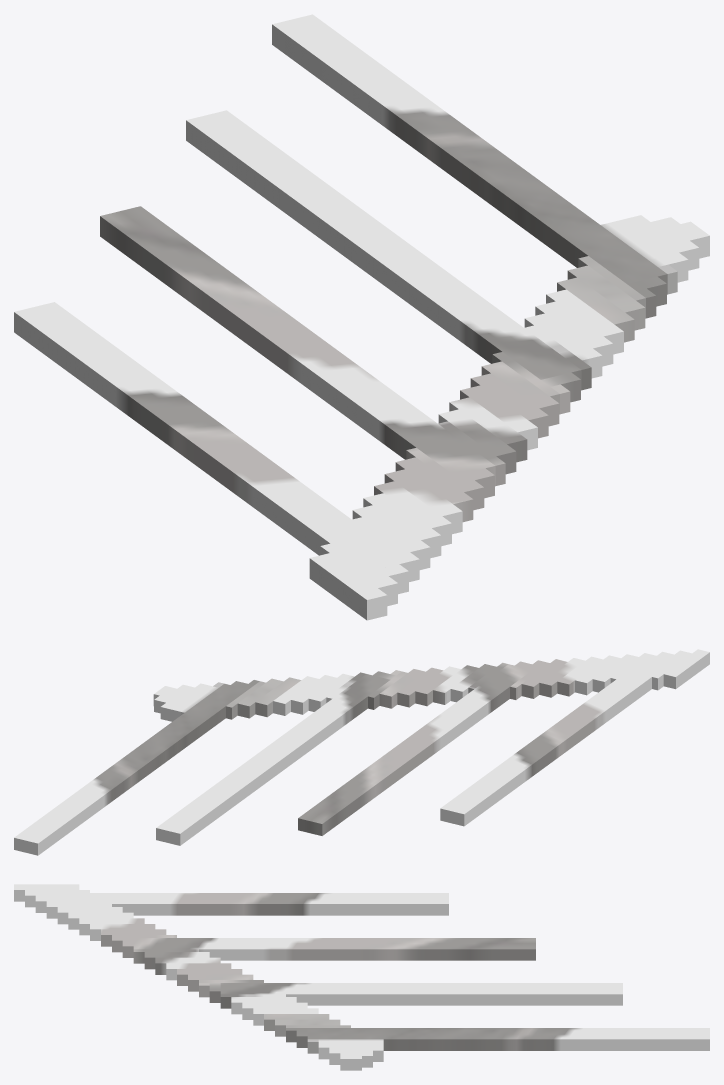
File: rail.obj
The picture shows the model from 3 angles, top to bottom: view 1: azimuth 30°, elevation 25°; view 2: azimuth 150°, elevation 25°; view 3: azimuth 270°, elevation 25°; orthographic projection. The views are drawn at different scales.
Bounding box in the file's own units: 0.9688 × 0.03 × 1.63.
